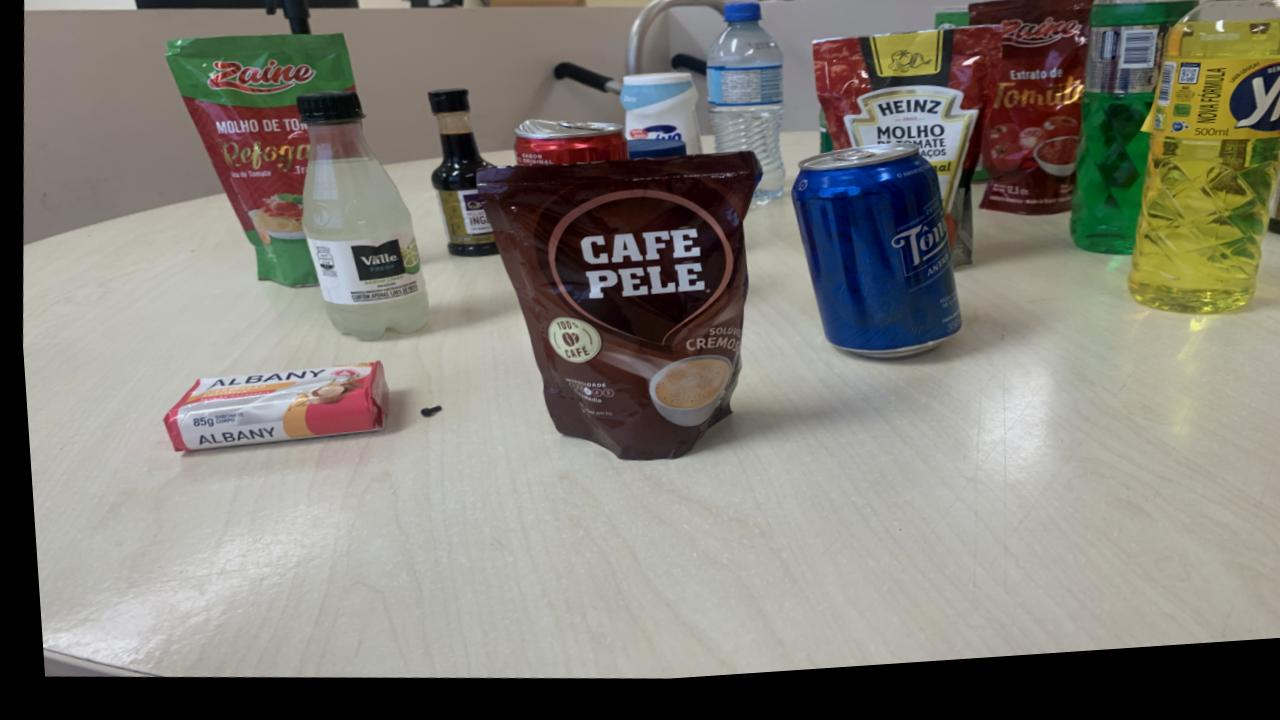Cleaner-Cleanup_Items: (618, 81, 699, 164)
Coke-Drinks: (474, 162, 754, 469), (512, 127, 620, 146)
Detergent-Cleanup_Items: (1123, 0, 1280, 330), (1066, 0, 1198, 269)
English_Sauce-Pantry_Items: (427, 94, 492, 262)
Soap-Cleanup_Items: (156, 366, 382, 453)
Soda-Drinks: (295, 95, 424, 346)
Tomato_Sauce-Pantry_Items: (165, 37, 353, 290), (811, 39, 999, 279), (969, 9, 1095, 230)
Tonic-Drinks: (789, 154, 954, 368)
Water_Bottle-Drinks: (165, 37, 353, 290), (705, 12, 782, 214), (205, 62, 313, 98)
